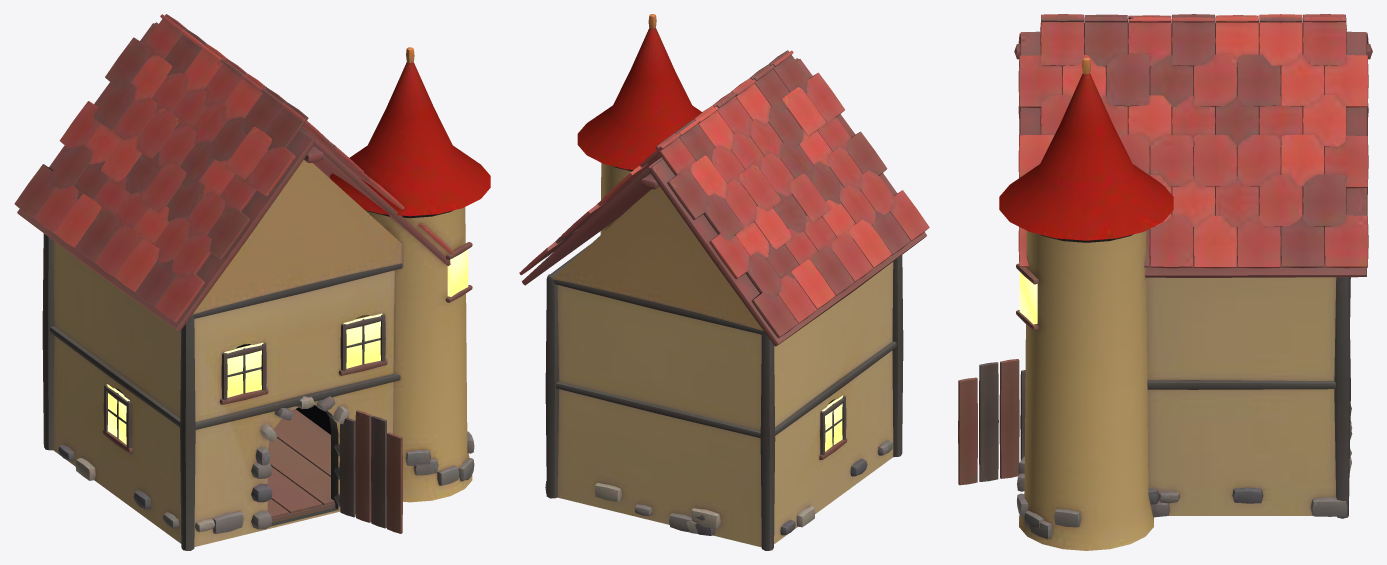
The model's file is house_c.glb.
3 renders of one model, left to right at view 1: azimuth 30°, elevation 25°; view 2: azimuth 150°, elevation 25°; view 3: azimuth 270°, elevation 25°, orthographic. The views are drawn at different scales.
Visible parts, largest first — view 1: main, glow; view 2: main, glow; view 3: main, glow.
Part boxes in pixels (left/top/right/bottom): main: left=14, top=14, right=490, bottom=550; glow: left=106, top=249, right=468, bottom=444; main: left=519, top=14, right=929, bottom=550; glow: left=822, top=395, right=843, bottom=451; main: left=958, top=14, right=1372, bottom=550; glow: left=1019, top=272, right=1037, bottom=324.
Bounding box in the file's own units: 9.07 × 11.05 × 8.91.
Materials: 2 (1 with a texture image).
